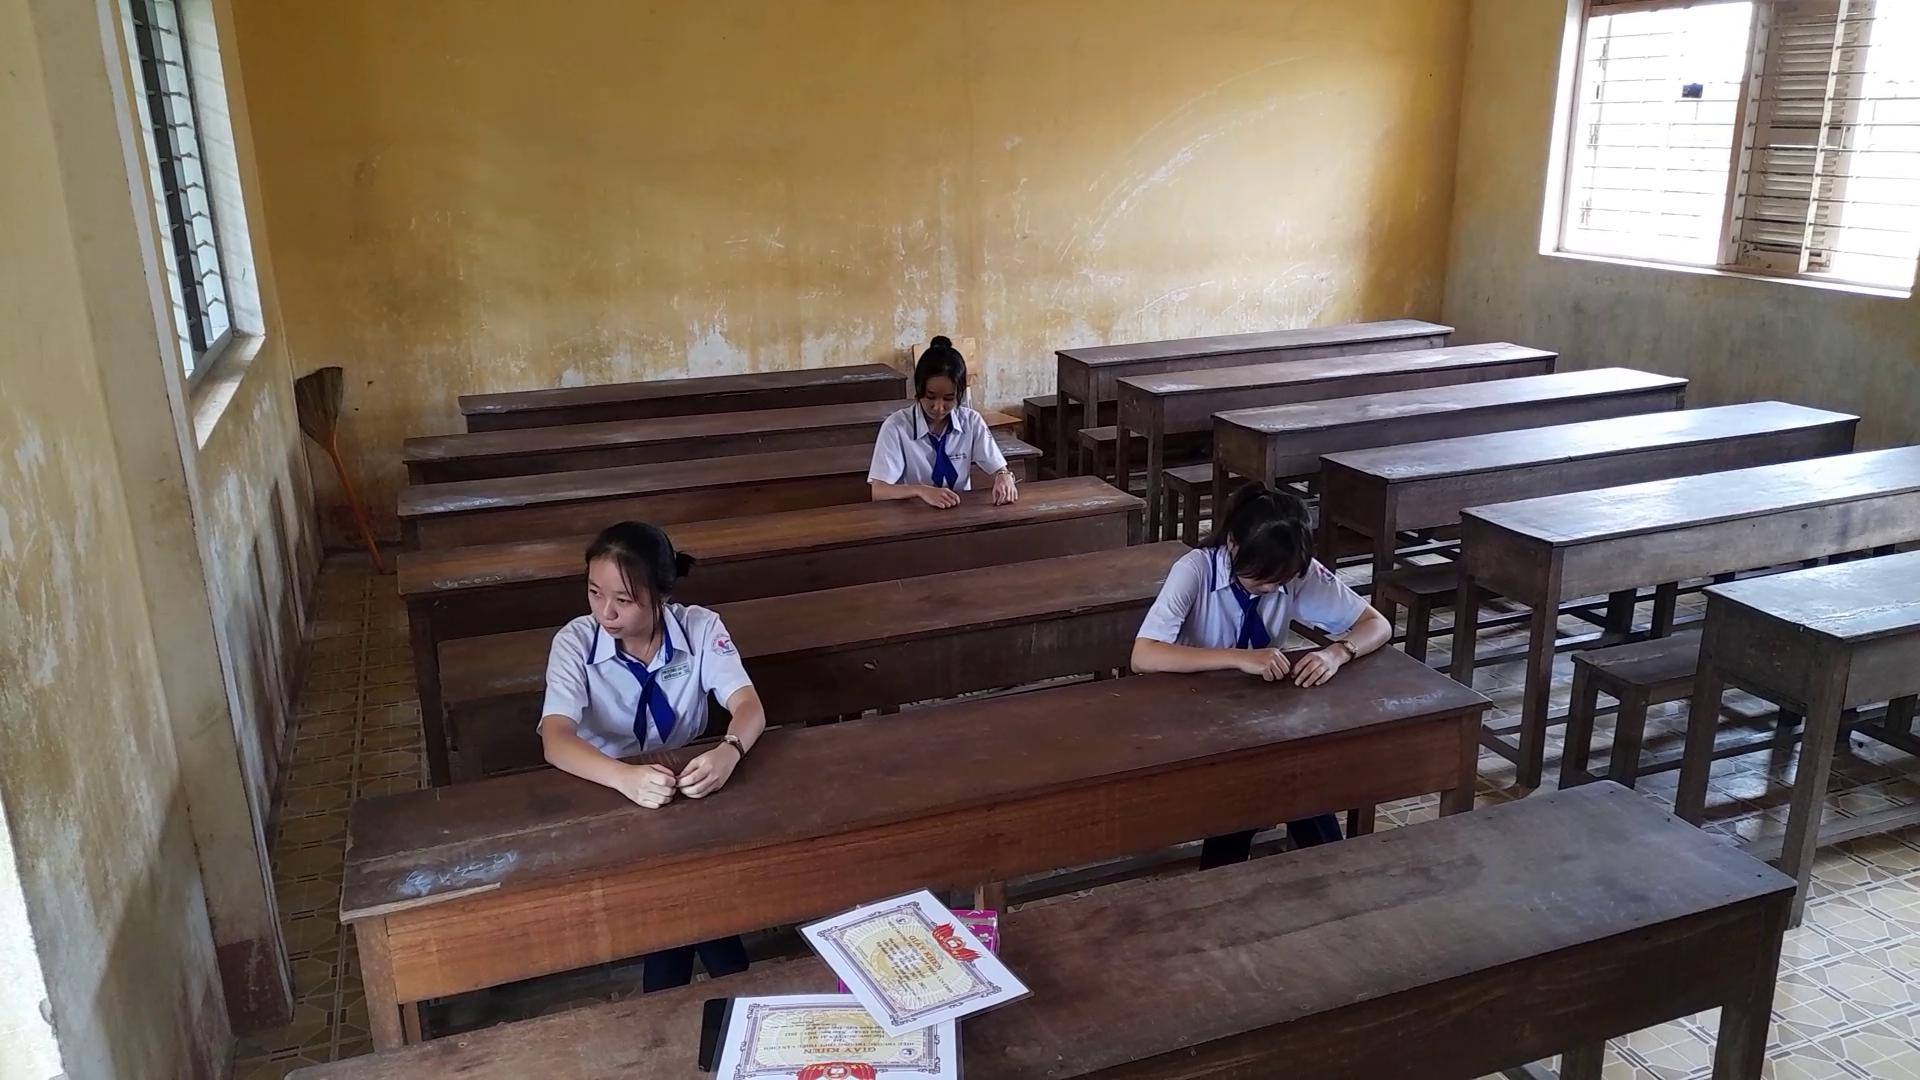Bend Over The Desk: (1205, 458, 1323, 607), (882, 320, 982, 436)
Look Around: (560, 509, 684, 644)
